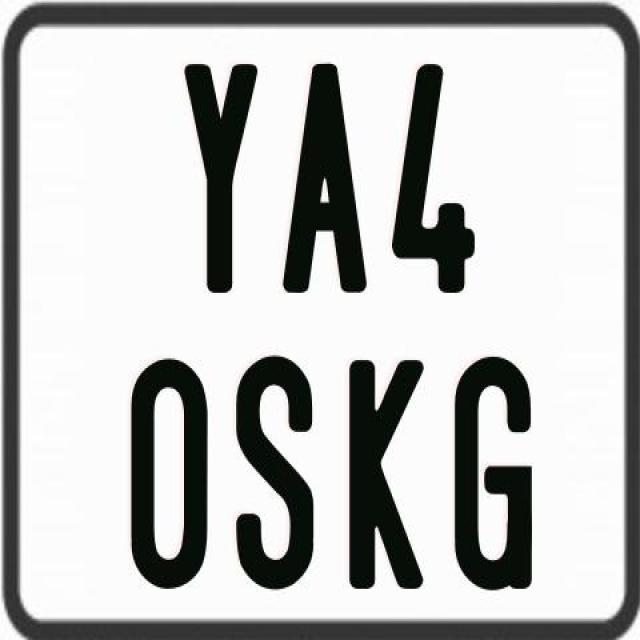0: (126, 358, 204, 598)
4: (392, 59, 480, 296)
A: (280, 63, 372, 300)
G: (450, 357, 530, 596)
K: (348, 355, 427, 587)
S: (232, 352, 312, 590)
Y: (184, 64, 266, 298)
